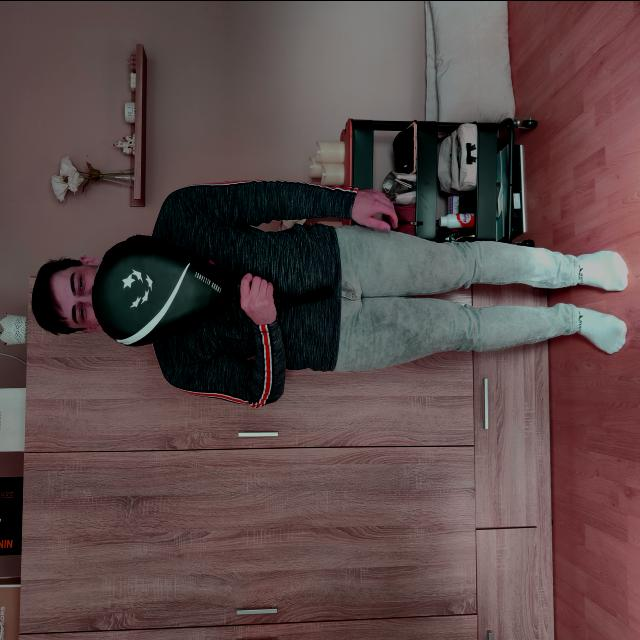paddle: (91, 232, 240, 348)
